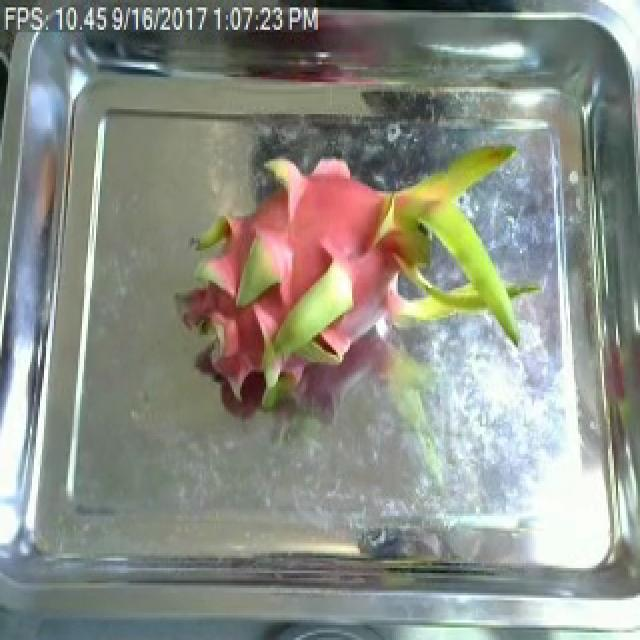fruit: (152, 106, 560, 484)
